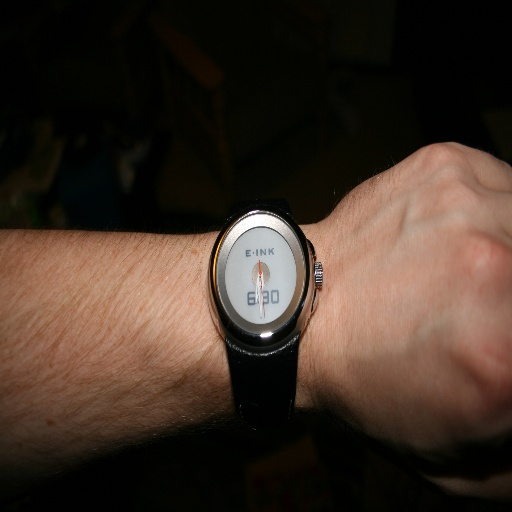hand: (327, 139, 511, 455)
